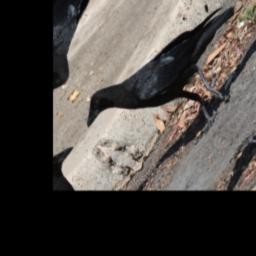Crow: (71, 0, 256, 173)
